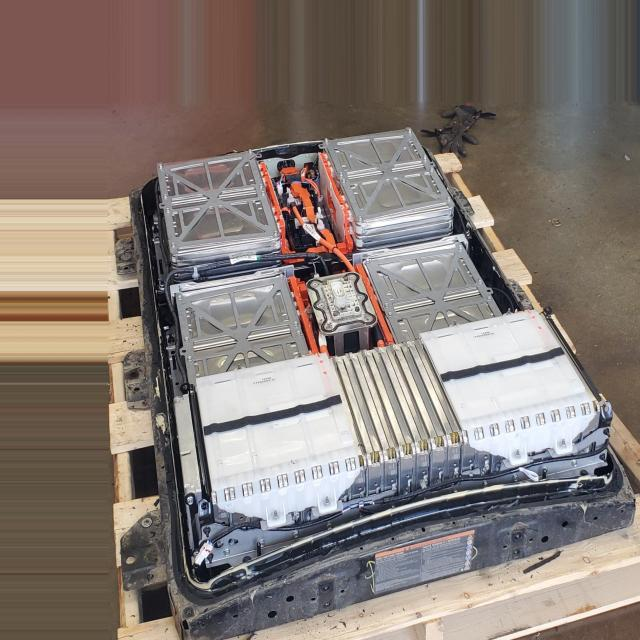Battery Module: (181, 162, 252, 238), (194, 302, 280, 354), (354, 147, 412, 208), (402, 265, 458, 318)
Bolt: (170, 240, 183, 252), (255, 538, 268, 550), (448, 317, 461, 328), (322, 136, 333, 149), (245, 148, 257, 158), (163, 205, 175, 215), (474, 275, 483, 288), (278, 272, 289, 282), (335, 167, 346, 177), (221, 546, 231, 557), (177, 294, 186, 306), (325, 521, 334, 533), (184, 354, 194, 364), (380, 300, 390, 310), (258, 190, 268, 200), (290, 530, 300, 540), (510, 473, 521, 482), (289, 320, 301, 328), (445, 192, 453, 204), (187, 494, 195, 506), (422, 152, 431, 162), (355, 212, 365, 221), (156, 161, 166, 170), (482, 481, 492, 490), (486, 291, 493, 303), (254, 182, 266, 189), (338, 178, 349, 185), (387, 311, 396, 319), (182, 336, 191, 343), (405, 129, 414, 136), (161, 192, 170, 199), (457, 243, 463, 253), (272, 230, 280, 237), (429, 167, 438, 173), (365, 258, 372, 264), (296, 331, 301, 335)
Cable: (291, 203, 355, 271)
Nut: (269, 509, 281, 522), (558, 438, 570, 450), (321, 496, 333, 506), (514, 448, 522, 460)
